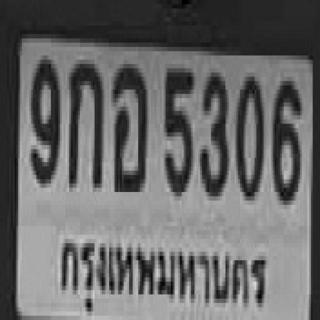A01: (68, 64, 102, 188)
A43: (112, 65, 146, 188)
N00: (236, 75, 263, 199)
N03: (200, 68, 229, 192)
N05: (164, 67, 193, 195)
N06: (272, 77, 301, 201)
N09: (30, 60, 59, 184)
P04: (54, 232, 270, 314)
